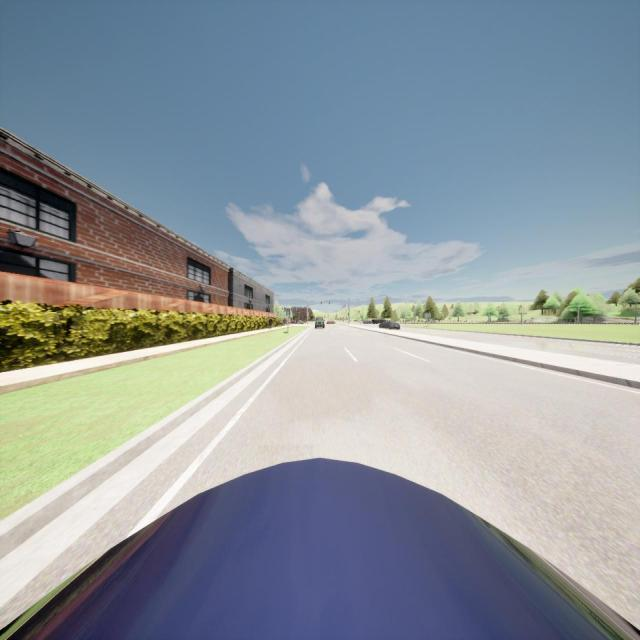Pedestrian: (269, 316, 273, 329)
Traffic_Signs: (286, 308, 290, 316)
Vehicle: (0, 455, 640, 640), (378, 321, 401, 330), (314, 316, 325, 328), (372, 317, 385, 323), (295, 319, 304, 325), (326, 320, 335, 325), (363, 320, 372, 324)
traffic_light: (320, 300, 322, 305), (329, 301, 330, 304)
